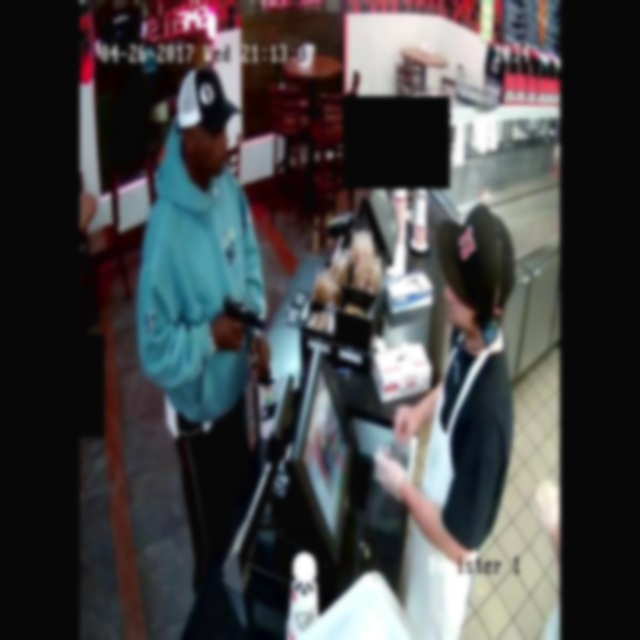gun: (214, 274, 276, 356)
